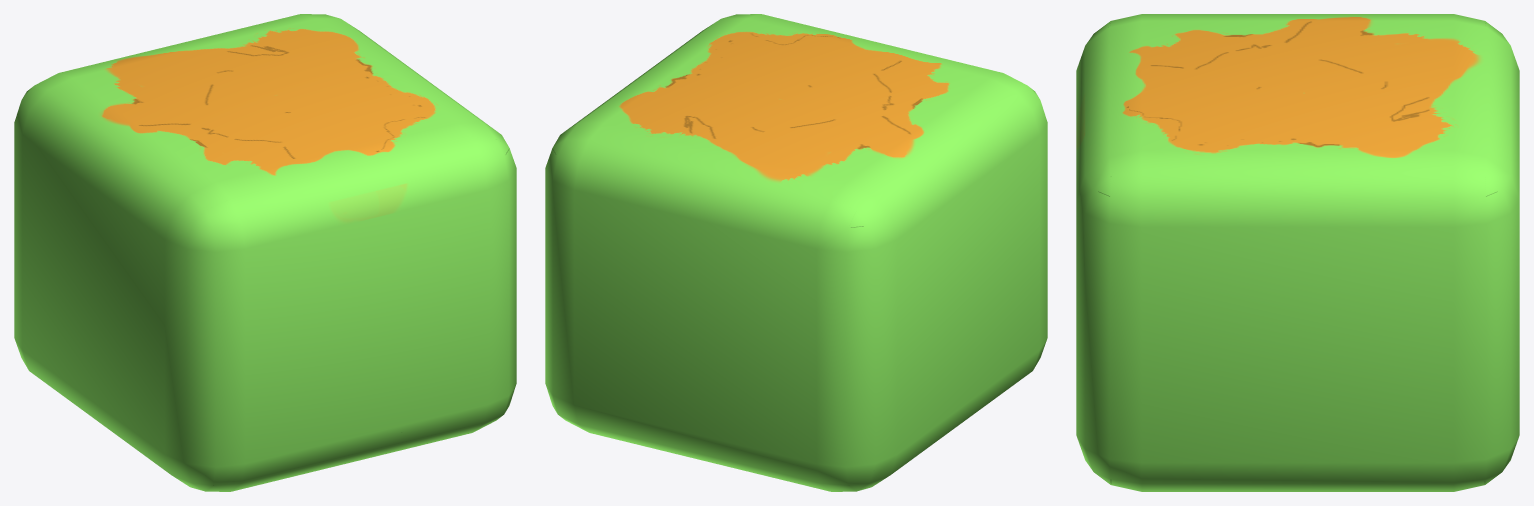
File: Tile3.fbx
The picture shows the model from 3 angles, left to right: view 1: azimuth 30°, elevation 25°; view 2: azimuth 150°, elevation 25°; view 3: azimuth 270°, elevation 25°; orthographic projection. The views are drawn at different scales.
Visible parts, largest first — view 1: Cube; view 2: Cube; view 3: Cube.
Part boxes in pixels (x1,y1,x2,y2): Cube: [14, 14, 516, 491]; Cube: [545, 14, 1047, 491]; Cube: [1076, 14, 1519, 491].
Size of the model in its own units: 3133 by 2654 by 3188.
1 material, 1 textured.
